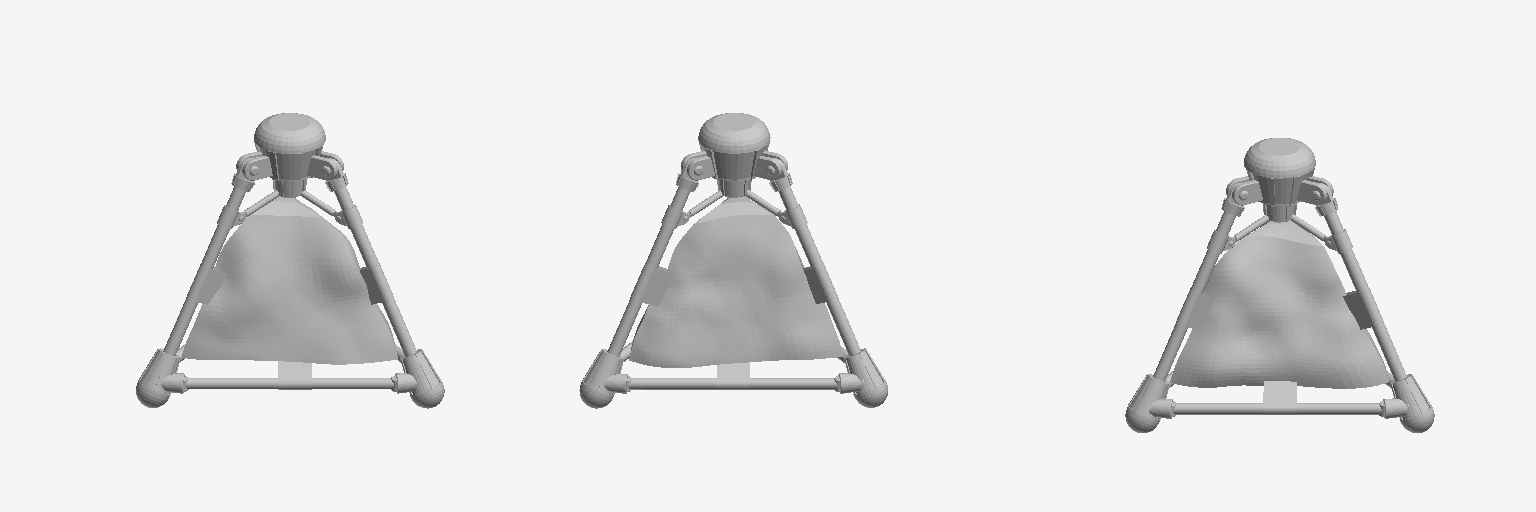
Rendered from スプラッシュボム.obj.
3 views of the same model, side by side, from view 1: azimuth 30°, elevation 25°; view 2: azimuth 150°, elevation 25°; view 3: azimuth 270°, elevation 25° (orthographic).
Parts seen in each view (by area): view 1: Cylinder.030_Cylinder.019, Cylinder.007_Cylinder.010, Cylinder.021_Cylinder.008, Cylinder.002, Circle.002; view 2: Cylinder.030_Cylinder.019, Cylinder.007_Cylinder.010, Cylinder.021_Cylinder.008, Cylinder.002, Circle.002; view 3: Cylinder.030_Cylinder.019, Cylinder.007_Cylinder.010, Cylinder.021_Cylinder.008, Cylinder.002, Circle.002.
Boxes of the visible parts, x1,y1,x2,y2 form: Cylinder.030_Cylinder.019: [181, 196, 397, 389]; Cylinder.007_Cylinder.010: [163, 176, 416, 391]; Cylinder.021_Cylinder.008: [138, 142, 441, 395]; Cylinder.002: [136, 113, 444, 408]; Circle.002: [231, 158, 348, 191]; Cylinder.030_Cylinder.019: [629, 196, 843, 389]; Cylinder.007_Cylinder.010: [607, 177, 860, 391]; Cylinder.021_Cylinder.008: [582, 140, 885, 395]; Cylinder.002: [579, 113, 887, 408]; Circle.002: [676, 158, 792, 191]; Cylinder.030_Cylinder.019: [1170, 220, 1388, 414]; Cylinder.007_Cylinder.010: [1153, 201, 1406, 416]; Cylinder.021_Cylinder.008: [1128, 167, 1431, 419]; Cylinder.002: [1125, 138, 1434, 432]; Circle.002: [1221, 183, 1337, 216].
Bounding box in the file's own units: 8.65 × 8.82 × 9.83.